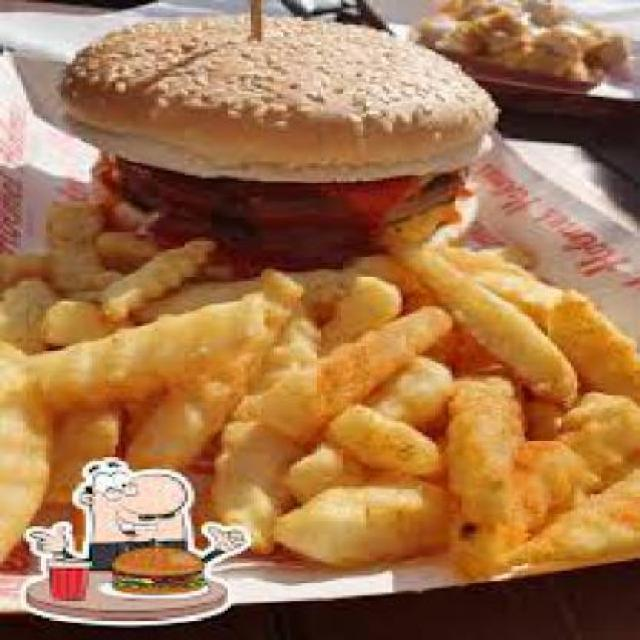hamburger: (53, 7, 492, 262)
